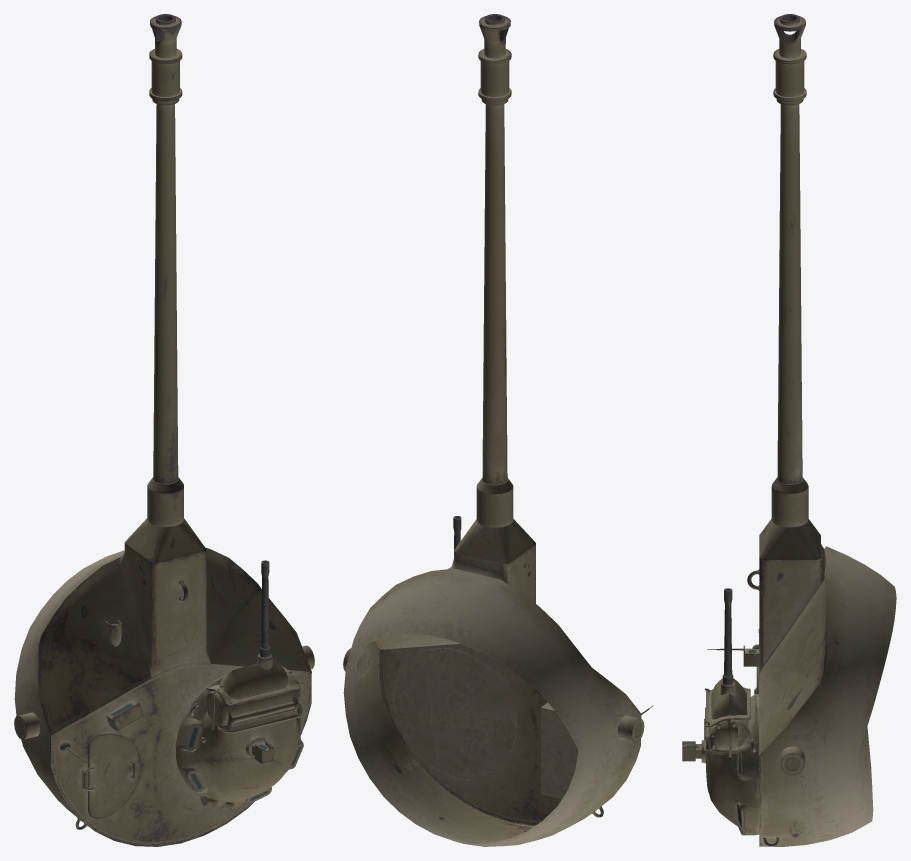
Rendered from Gun_02.glb.
3 views of the same model, side by side, from view 1: azimuth 30°, elevation 25°; view 2: azimuth 150°, elevation 25°; view 3: azimuth 270°, elevation 25° (orthographic).
Parts seen in each view (by area): view 1: set_0_group_0; view 2: set_0_group_0; view 3: set_0_group_0.
Part boxes in pixels (x1,y1,x2,y2): set_0_group_0: (14,14,314,846); set_0_group_0: (343,14,653,846); set_0_group_0: (682,14,896,846).
Size of the model in its own units: 2.26 by 6.09 by 1.45.
Materials: 1 (1 with a texture image).
